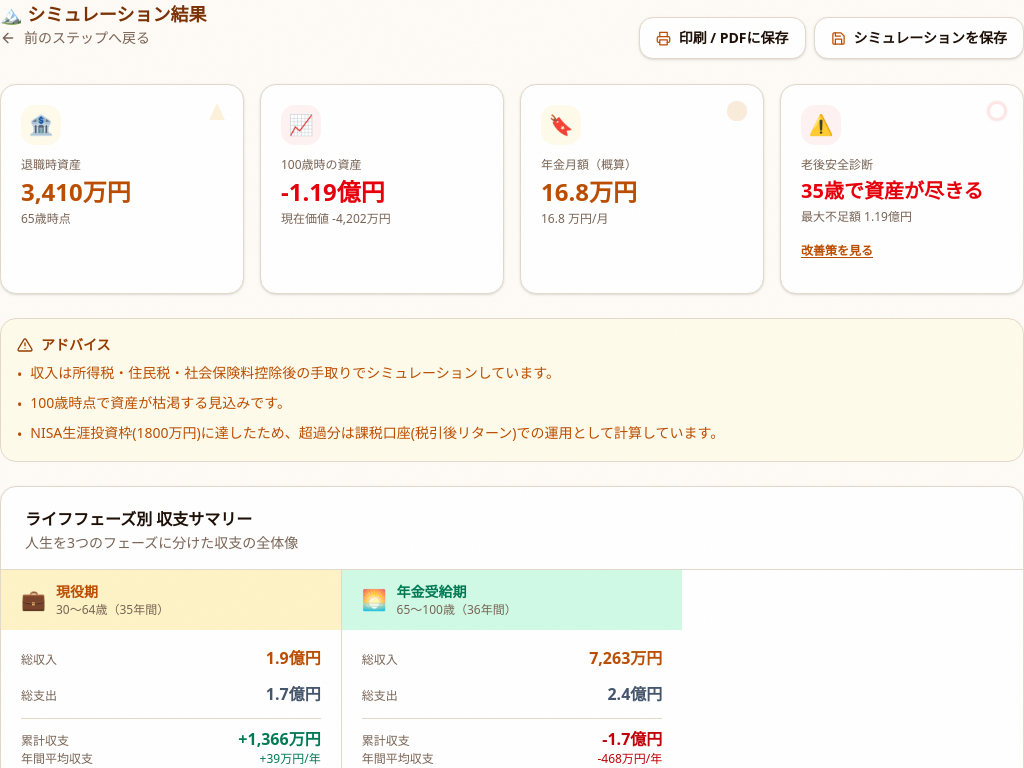
Test: save closes at once and confirms with a toast (SHIG 57, 66) › closes the dialog immediately and shows a toast
Click the button "シミュレーションを保存" at coordinates (919, 38), box left=814, top=17, right=1023, bottom=59
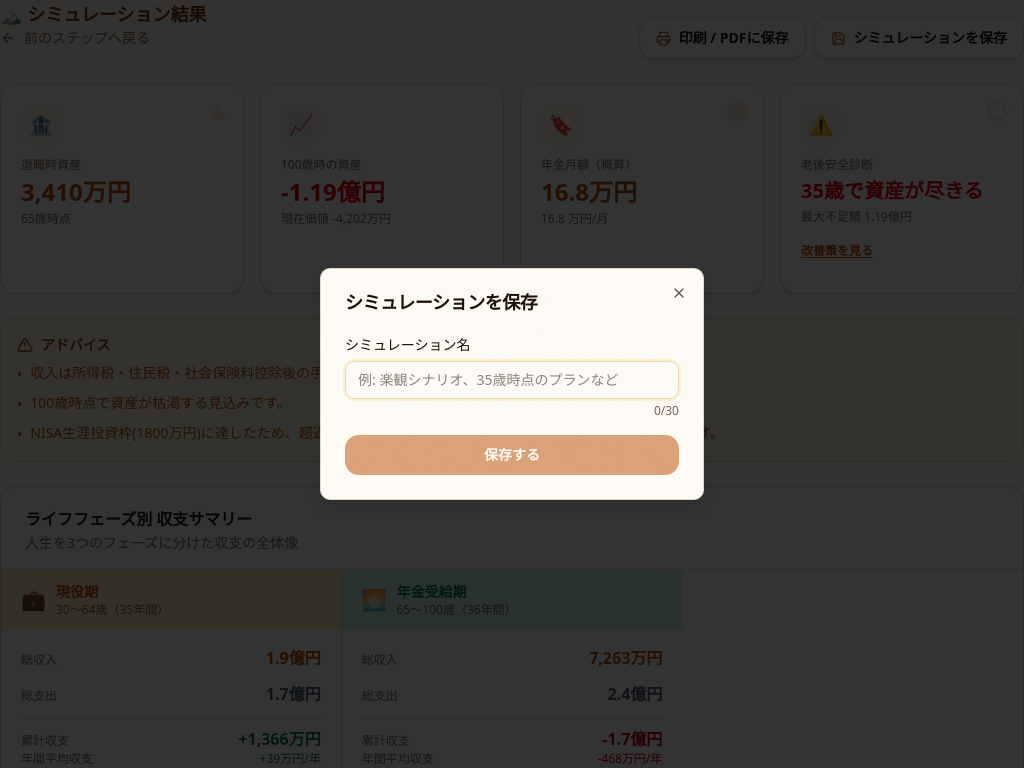
Type "案A" into the field with placeholder "例: 楽観シナリオ、35歳時点のプランなど" at coordinates (512, 380), box left=345, top=361, right=679, bottom=399
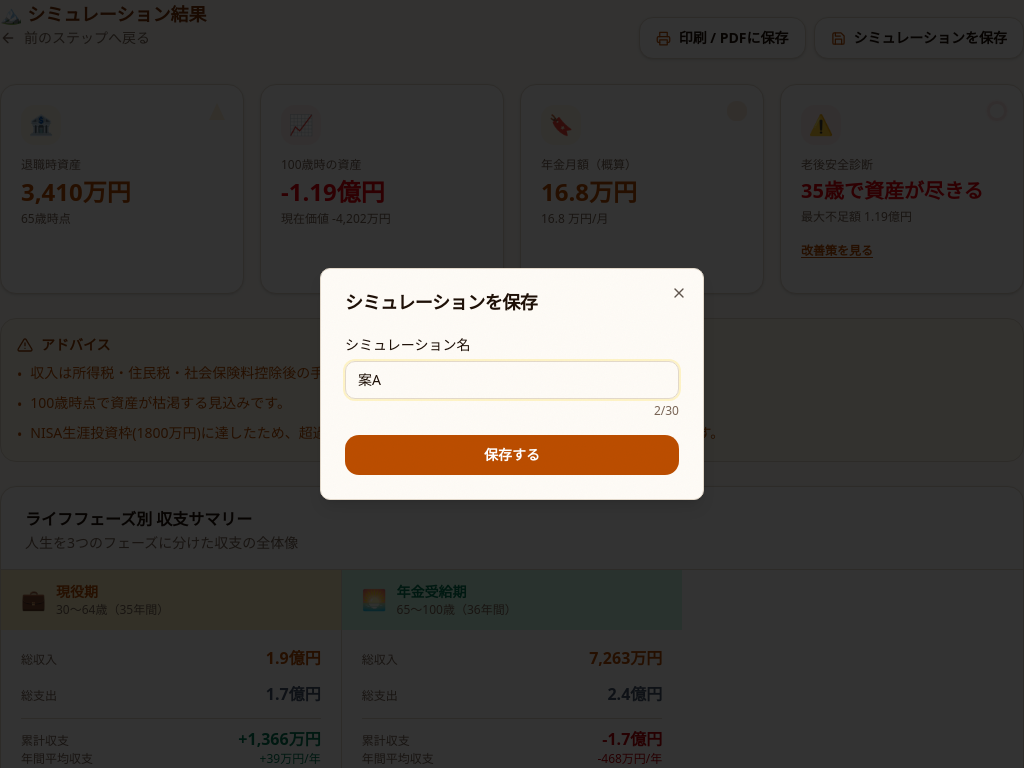
Click the button "保存する" at coordinates (512, 455), box left=345, top=435, right=679, bottom=475
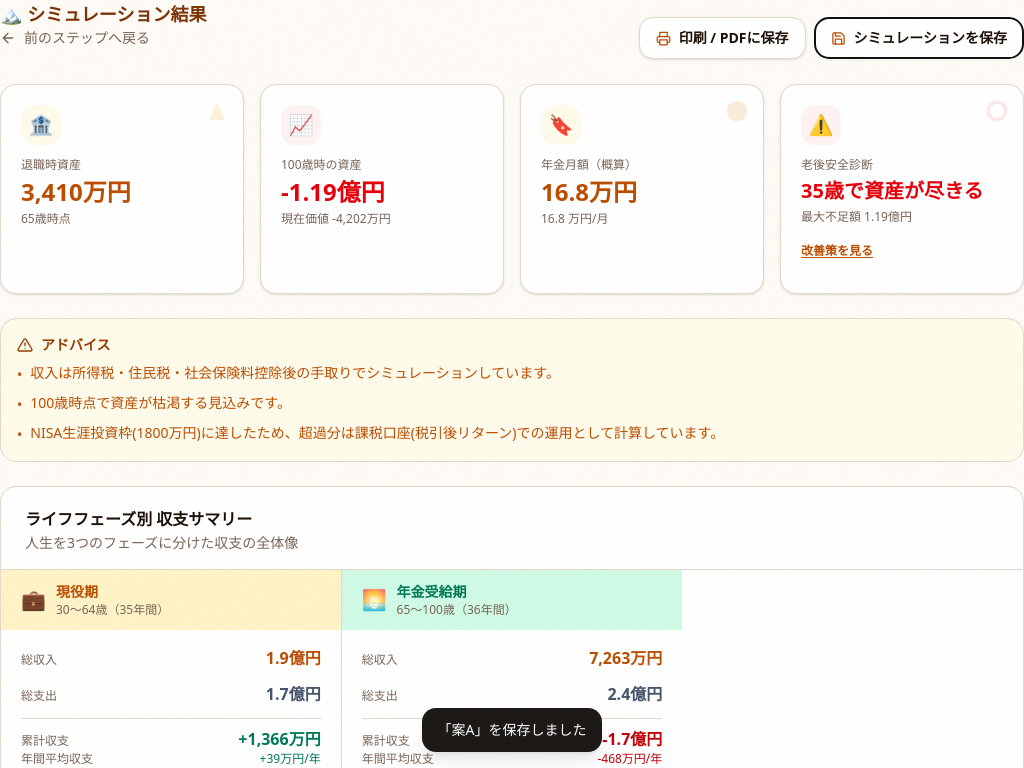
Expected: the dialog is gone
Expected: the message reads "「案A」を保存しました", left=438, top=720, right=586, bottom=739
